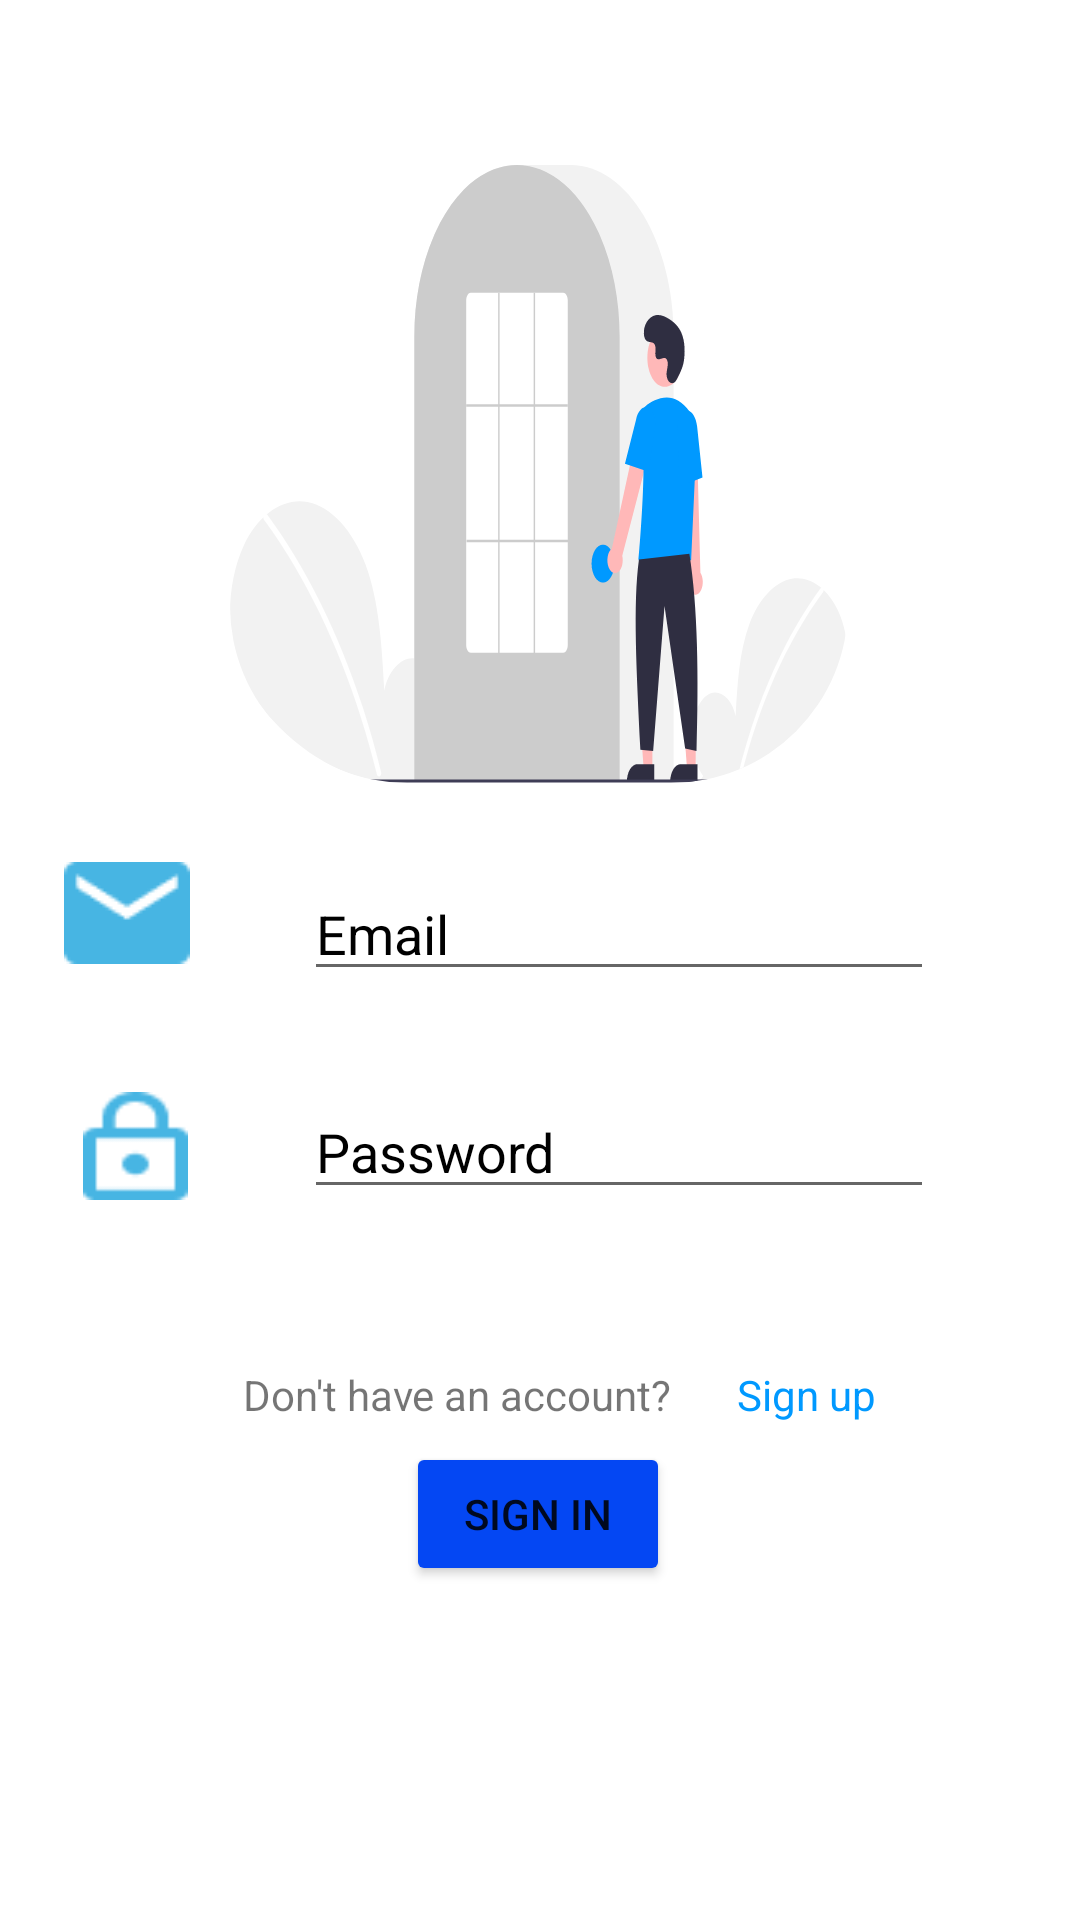

Icons on this 1080px×1920px Android screen, each with the point to tap as (x=x, y=y):
lock: (x=135, y=1146)
